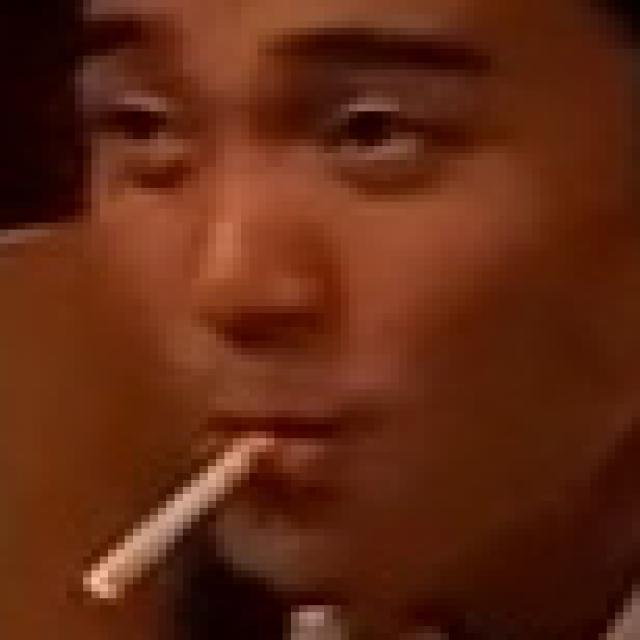smoking: (86, 428, 279, 602)
